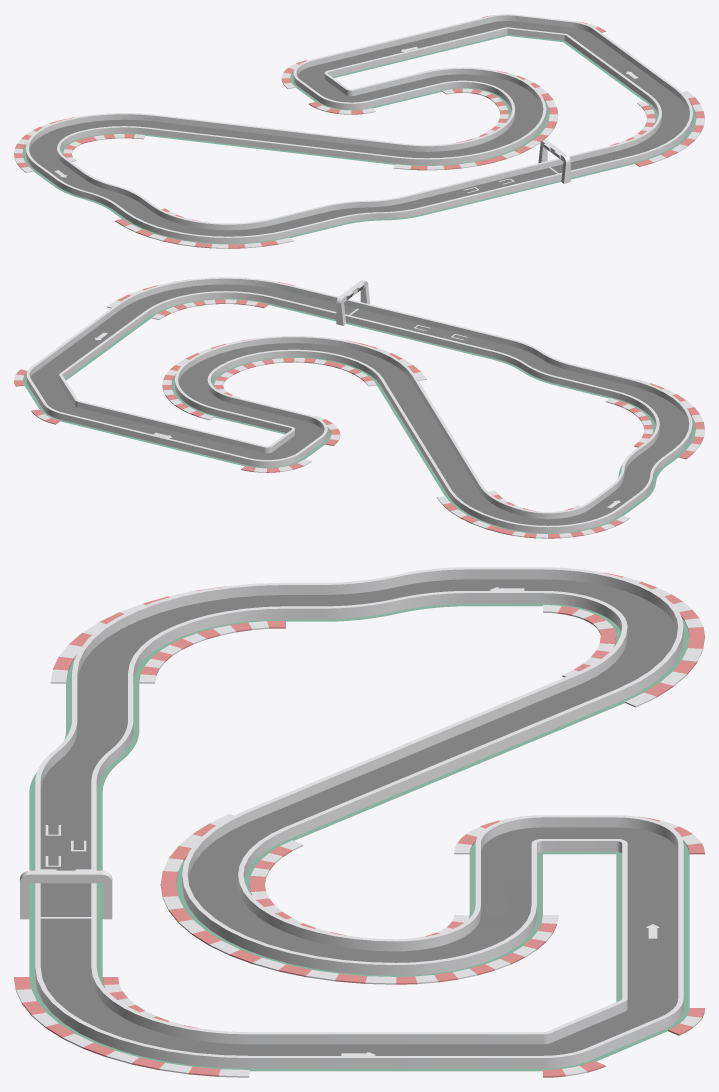
Rendered from track.dae.
The picture shows the model from 3 angles, top to bottom: view 1: azimuth 30°, elevation 25°; view 2: azimuth 150°, elevation 25°; view 3: azimuth 270°, elevation 25°; orthographic projection. The views are drawn at different scales.
Visible parts, largest first — view 1: Track, Walls; view 2: Track, Walls; view 3: Track, Walls.
Part boxes in pixels (x1,y1,x2,y2): Track: [14, 15, 704, 248]; Walls: [26, 14, 692, 243]; Track: [14, 279, 704, 538]; Walls: [26, 277, 692, 532]; Track: [14, 569, 704, 1077]; Walls: [35, 567, 683, 1067].
Bounding box in the file's own units: 32.84 × 18.84 × 1.35.
